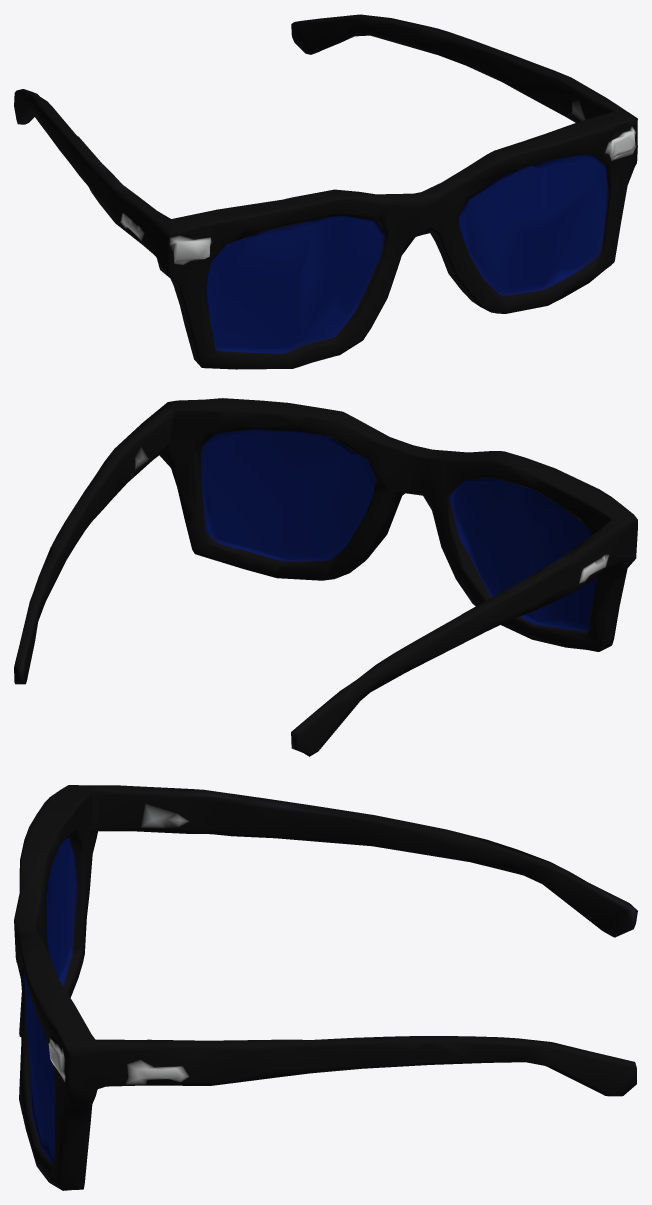
The model's file is gen3d-sunglass-lod0.glb.
The picture shows the model from 3 angles, top to bottom: view 1: azimuth 30°, elevation 25°; view 2: azimuth 150°, elevation 25°; view 3: azimuth 270°, elevation 25°; orthographic projection. The views are drawn at different scales.
Parts seen in each view (by area): view 1: part_0; view 2: part_0; view 3: part_0.
Boxes of the visible parts, <box> form: part_0: <box>14,14,637,369</box>; part_0: <box>14,398,637,756</box>; part_0: <box>14,785,637,1190</box>.
Size of the model in its own units: 2.96 by 0.9994 by 2.95.
